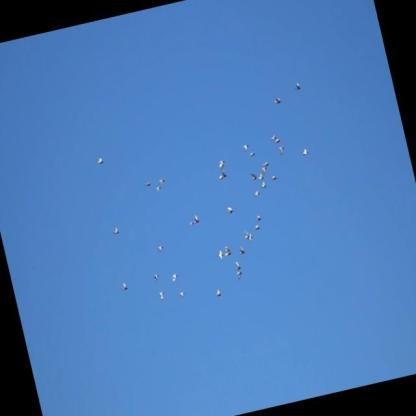bird: (214, 246, 225, 264), (242, 228, 254, 243), (216, 168, 228, 182), (109, 224, 120, 237), (232, 260, 243, 273), (191, 211, 200, 226), (171, 271, 180, 284), (224, 245, 232, 259), (155, 242, 165, 253), (151, 273, 161, 284), (214, 288, 223, 300), (272, 96, 282, 106), (96, 156, 105, 167), (301, 147, 310, 158), (237, 244, 246, 255), (120, 280, 129, 291), (235, 270, 244, 281), (158, 290, 167, 301), (250, 171, 258, 183), (143, 178, 152, 188), (242, 142, 250, 153), (278, 146, 286, 157), (260, 165, 268, 176), (226, 204, 234, 215), (217, 158, 226, 167), (158, 177, 166, 187), (257, 171, 265, 181), (294, 81, 301, 91), (269, 133, 276, 143), (273, 137, 281, 145), (270, 174, 278, 182), (178, 291, 186, 299), (260, 180, 267, 189), (254, 223, 261, 232), (155, 185, 162, 193), (254, 189, 261, 197), (255, 213, 262, 221), (188, 220, 194, 229), (262, 161, 269, 168), (249, 151, 257, 157)
